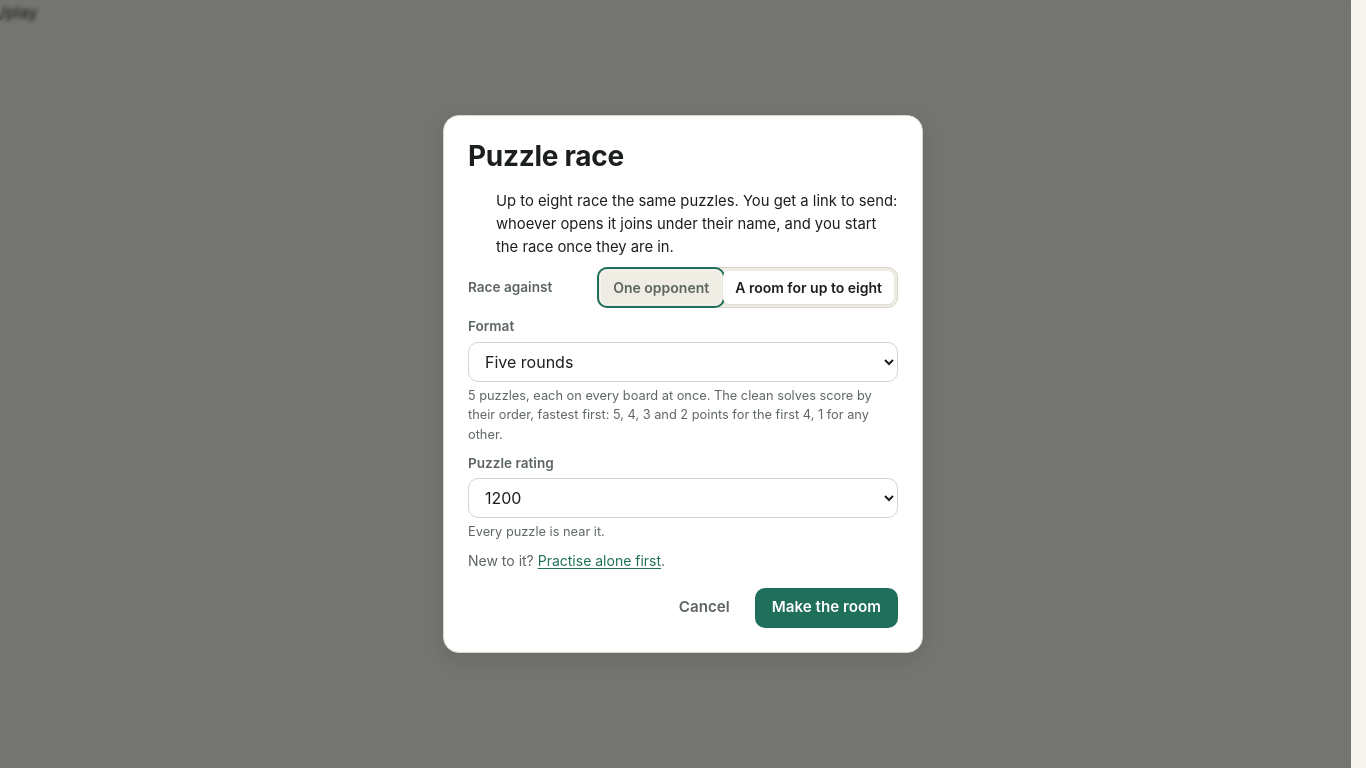
Scenario: the puzzle race’s setup › opens on a room when asked, and says why one could not be made
Click the button "Make the room".
click(826, 608)  # box [755,588,898,628]
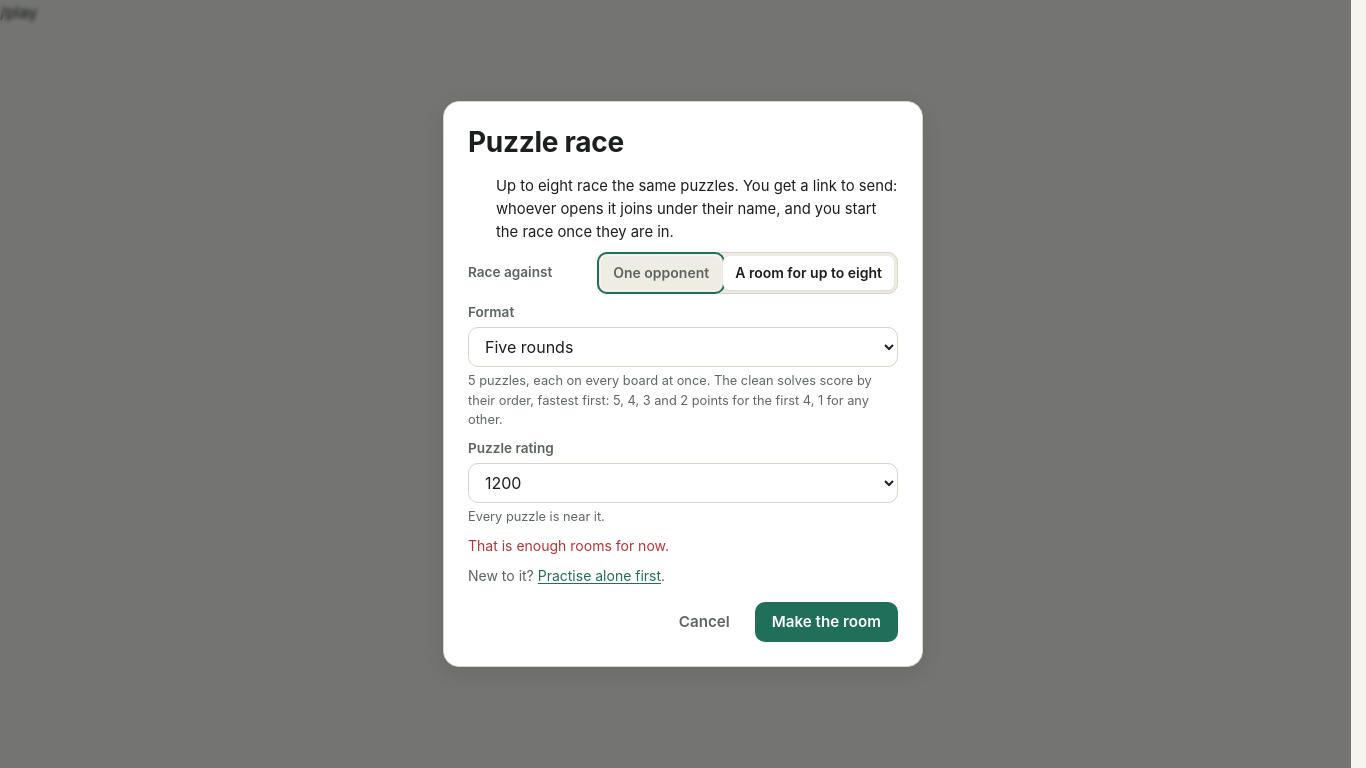
Expected: the text with test id "where" reads "/play", [0,2,37,22]
Expected: the message reads "That is enough rooms for now.", [468,537,669,554]
